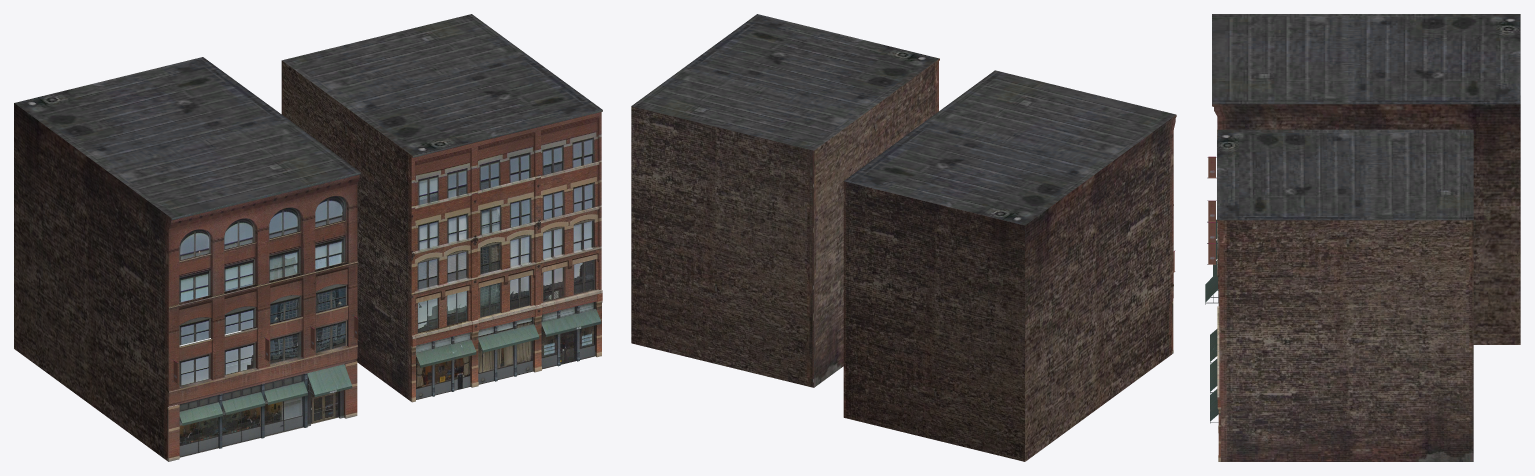
File: city.glb
The picture shows the model from 3 angles, left to right: view 1: azimuth 30°, elevation 25°; view 2: azimuth 150°, elevation 25°; view 3: azimuth 270°, elevation 25°; orthographic projection. The views are drawn at different scales.
Visible parts, largest first — view 1: Building 2_2, Building 1_3; view 2: Building 2_2, Building 1_3; view 3: Building 1_3, Building 2_2.
Boxes of the visible parts, left/top/right/bottom form: Building 2_2: left=14, top=57, right=360, bottom=461; Building 1_3: left=281, top=14, right=602, bottom=402; Building 2_2: left=843, top=70, right=1176, bottom=461; Building 1_3: left=631, top=14, right=939, bottom=387; Building 1_3: left=1210, top=129, right=1473, bottom=461; Building 2_2: left=1205, top=14, right=1520, bottom=344.
Size of the model in its own units: 176 by 95.73 by 113.
2 materials, 2 textured.
